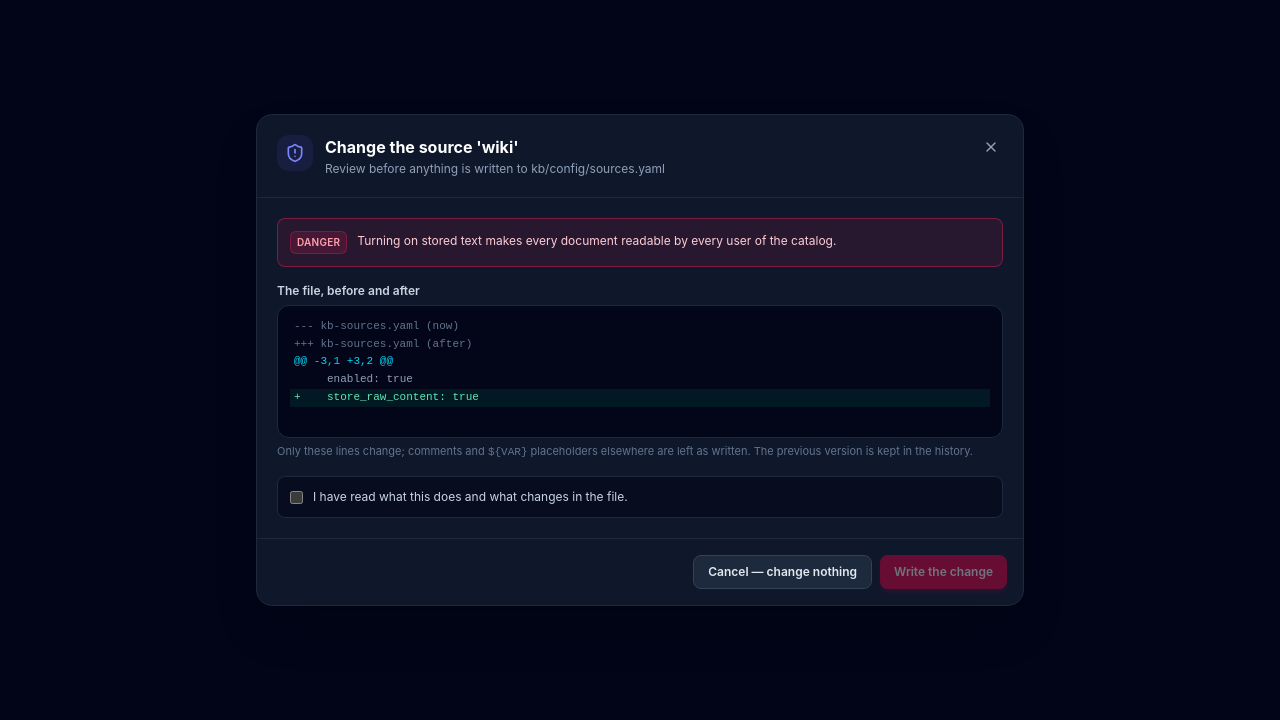
Test: ApprovalDialog › will not write until the person says they have read it
Expected: the button "Write the change" is disabled, [880,555,1007,589]
What coordinates should you click on to do the following:
click the checkbox labelled "I have read what this does and what changes in the file."
I would click on:
 (296, 497)
Its box is [290,491,303,504].
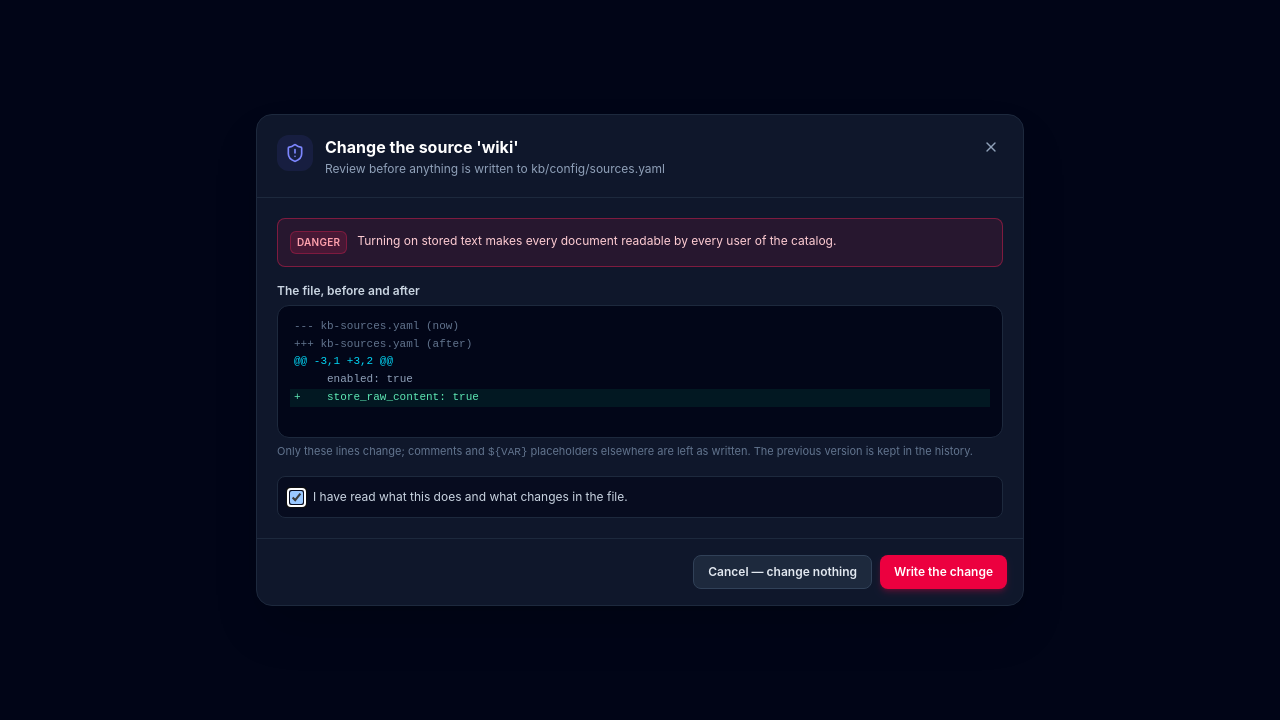
Expected: the button "Write the change" is enabled, [880,555,1007,589]
